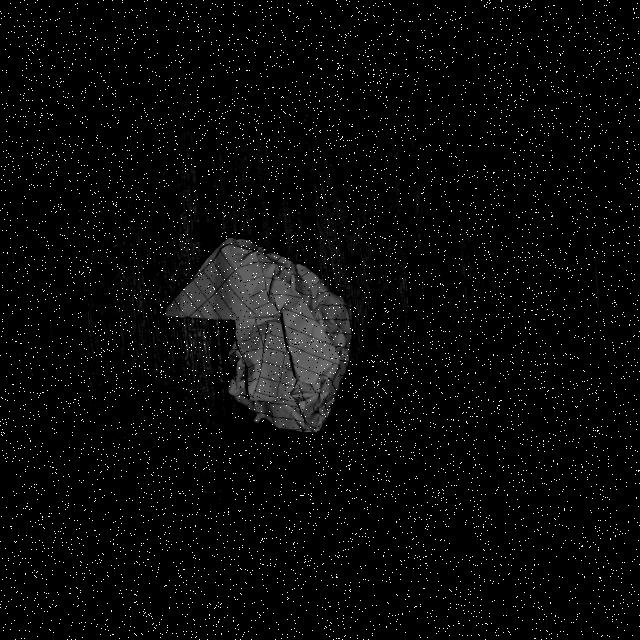scrap_paper: (170, 236, 363, 436)
